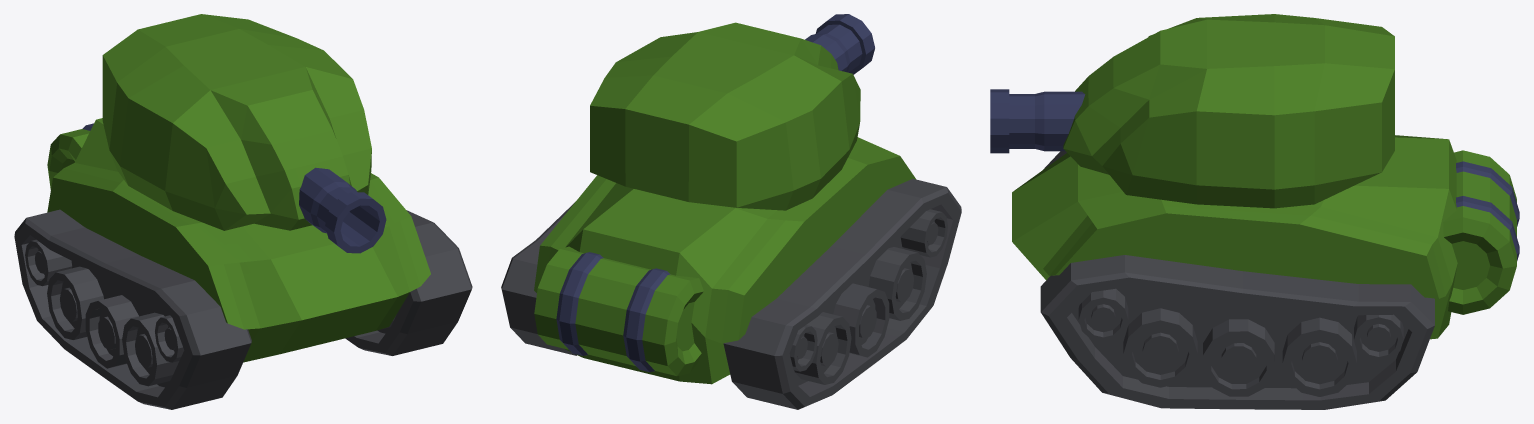
File: Tank_7.fbx
The picture shows the model from 3 angles, left to right: view 1: azimuth 30°, elevation 25°; view 2: azimuth 150°, elevation 25°; view 3: azimuth 270°, elevation 25°; orthographic projection. The views are drawn at different scales.
Parts seen in each view (by area): view 1: Turret, Track, Body, Gun, Supplies; view 2: Turret, Track, Body, Supplies, Gun; view 3: Turret, Track, Body, Supplies, Gun.
Boxes of the visible parts, x1,y1,x2,y2 form: Turret: [102, 14, 371, 230]; Track: [14, 209, 472, 409]; Body: [47, 118, 430, 362]; Gun: [299, 167, 386, 253]; Supplies: [47, 123, 93, 189]; Turret: [590, 22, 860, 210]; Track: [501, 179, 961, 409]; Body: [534, 137, 916, 384]; Supplies: [534, 246, 703, 375]; Gun: [805, 14, 874, 74]; Turret: [1063, 14, 1394, 208]; Track: [1040, 151, 1434, 409]; Body: [1012, 135, 1457, 339]; Supplies: [1443, 150, 1519, 314]; Gun: [990, 89, 1085, 153].
Bounding box in the file's own units: 162 × 153 × 249.
